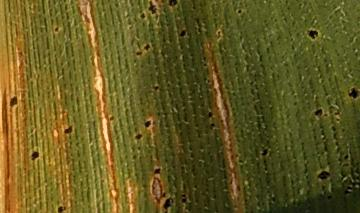tarspot: (160, 196, 176, 212), (6, 94, 21, 111), (315, 168, 333, 182), (304, 27, 319, 42), (345, 86, 360, 100), (28, 149, 42, 162), (61, 123, 75, 136), (146, 1, 159, 15), (151, 165, 163, 177), (312, 107, 323, 119), (55, 204, 69, 213), (143, 118, 154, 129), (177, 27, 187, 39), (133, 131, 144, 141), (259, 148, 271, 157), (52, 26, 62, 35), (143, 42, 152, 52), (137, 11, 147, 20), (206, 110, 215, 119), (208, 120, 216, 130), (107, 115, 116, 123), (152, 84, 161, 92), (134, 50, 143, 58), (235, 8, 244, 16), (342, 154, 351, 160), (323, 112, 329, 119)
